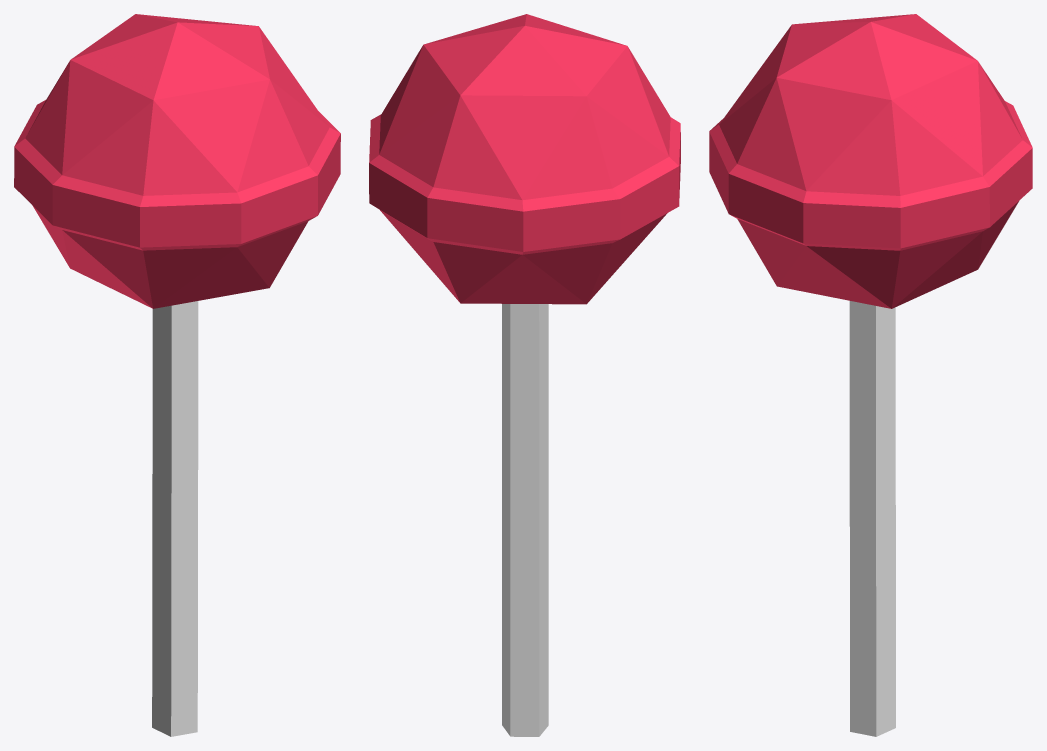
The model's file is lollipop_pink.fbx.
3 views of the same model, side by side, from view 1: azimuth 30°, elevation 25°; view 2: azimuth 150°, elevation 25°; view 3: azimuth 270°, elevation 25° (orthographic).
Visible parts, largest first — view 1: lollipop_pink; view 2: lollipop_pink; view 3: lollipop_pink.
Part boxes in pixels (bbox=[...]): lollipop_pink: bbox=[14, 14, 340, 736]; lollipop_pink: bbox=[369, 14, 680, 736]; lollipop_pink: bbox=[709, 14, 1032, 736].
Bounding box in the file's own units: 3.41 × 8.22 × 3.42.
